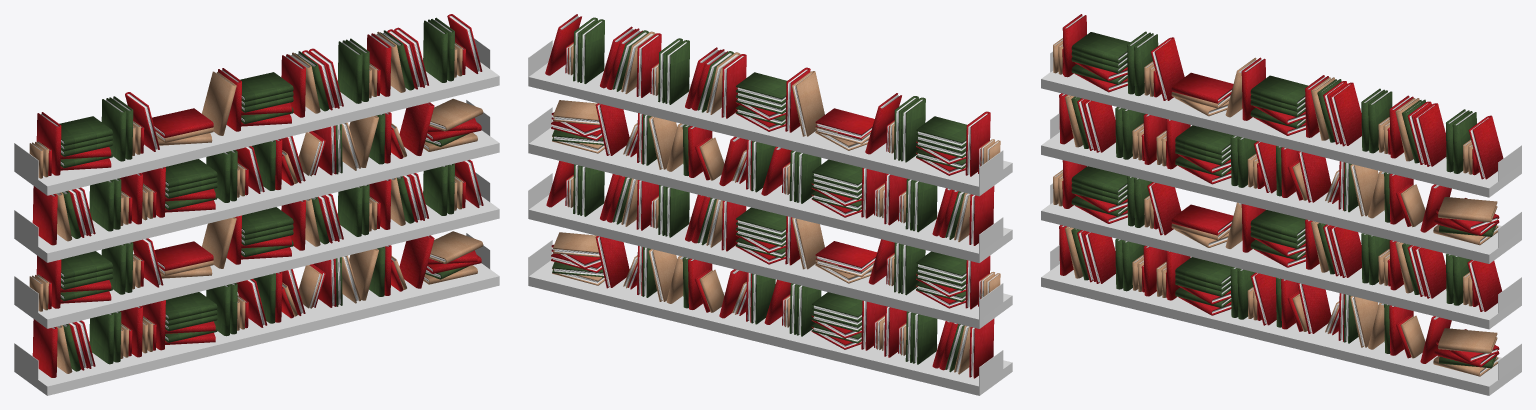
Rendered from EstanteriaBajaTerminadisima.fbx.
3 renders of one model, left to right at view 1: azimuth 30°, elevation 25°; view 2: azimuth 150°, elevation 25°; view 3: azimuth 330°, elevation 25°, orthographic.
Visible parts, largest first — view 1: estanteriaBAJA, libro.013, libro.152, libro.001, libro.201, libro.281, libro.004, libro.267, libro.187, libro.295, libro.180, libro.261 (+62 smaller); view 2: estanteriaBAJA, libro.013, libro.152, libro.001, libro.201, libro.281, libro.267, libro.004, libro.141, libro.261, libro.130, libro.154 (+64 smaller); view 3: estanteriaBAJA, libro.143, libro.131, libro.132, libro.153, libro.302, libro.180, libro.254, libro.267, libro.004, libro.186, libro.296 (+62 smaller).
Boxes of the visible parts, x1,y1,x2,y2 form: estanteriaBAJA: (14,38,499,395); libro.013: (202,71,236,135); libro.152: (423,19,447,82); libro.001: (337,40,362,103); libro.201: (399,102,434,155); libro.281: (399,235,434,288); libro.004: (152,108,213,138); libro.267: (154,241,213,271); libro.187: (32,186,57,245); libro.295: (32,319,57,377); libro.180: (429,98,483,131); libro.261: (202,217,236,268); estanteriaBAJA: (528,40,1012,395); libro.013: (792,71,824,136); libro.152: (580,19,604,83); libro.001: (665,40,689,104); libro.201: (595,103,629,155); libro.281: (595,236,629,288); libro.267: (815,241,877,272); libro.004: (815,108,874,139); libro.141: (901,97,925,162); libro.261: (792,218,824,269); libro.130: (721,54,746,118); libro.154: (916,116,966,147); estanteriaBAJA: (1041,51,1521,395); libro.143: (1414,103,1446,166); libro.131: (1330,82,1361,146); libro.132: (1468,115,1503,179); libro.153: (1150,37,1184,100); libro.302: (1438,328,1497,353); libro.180: (1438,197,1497,222); libro.254: (1467,260,1501,311); libro.267: (1171,204,1233,235); libro.004: (1171,72,1233,103); libro.186: (1084,100,1115,152); libro.296: (1084,231,1115,283).
Bounding box in the file's own units: 404 × 222 × 51.17.
